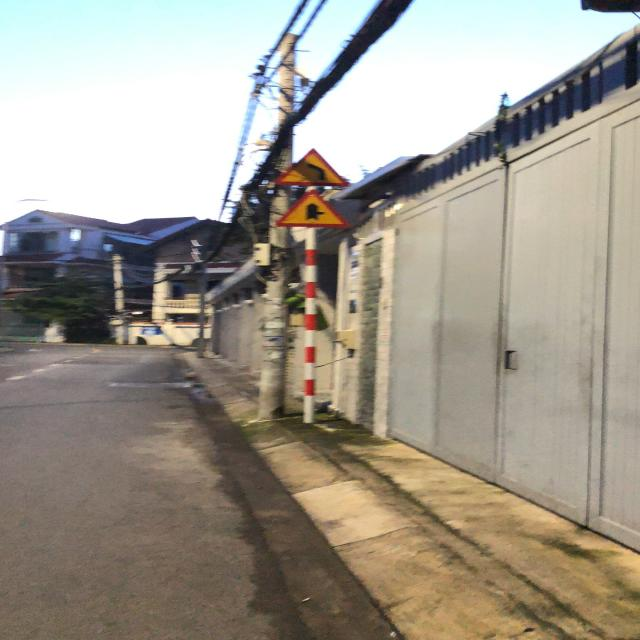Bien bao cho ngoat nguy hiem: (264, 143, 356, 190)
Bien bao giao nhau voi duong khong uu tien: (273, 187, 356, 229)
